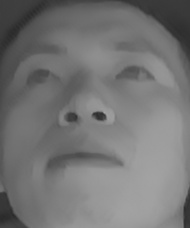eye: (113, 56, 161, 90), (20, 62, 66, 88)
mouth: (45, 138, 126, 182)
